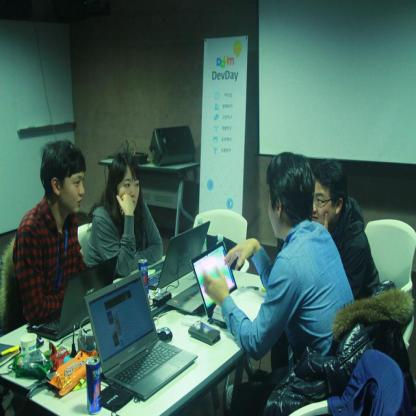board: (84, 272, 198, 402), (26, 255, 117, 342), (150, 223, 210, 289), (192, 240, 236, 329), (86, 356, 102, 416), (140, 258, 148, 300)
